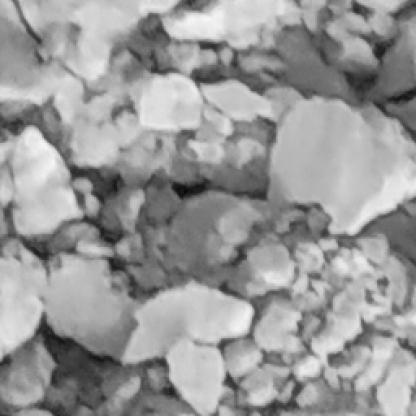cementitious_debris: (3, 3, 416, 415)
